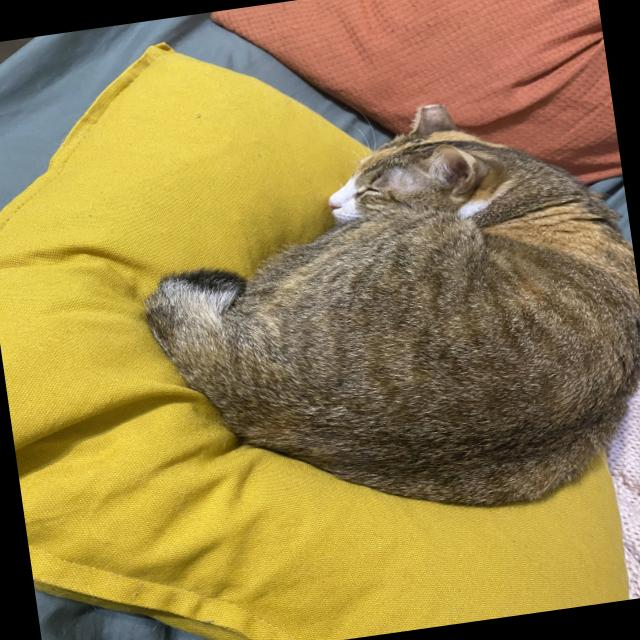cat2: (124, 79, 640, 554)
